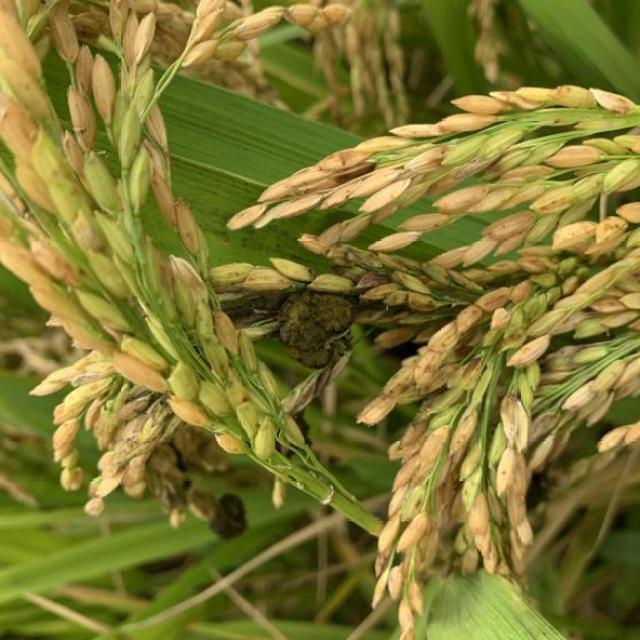Leaf_Scald: (272, 286, 361, 372), (208, 489, 251, 542)
